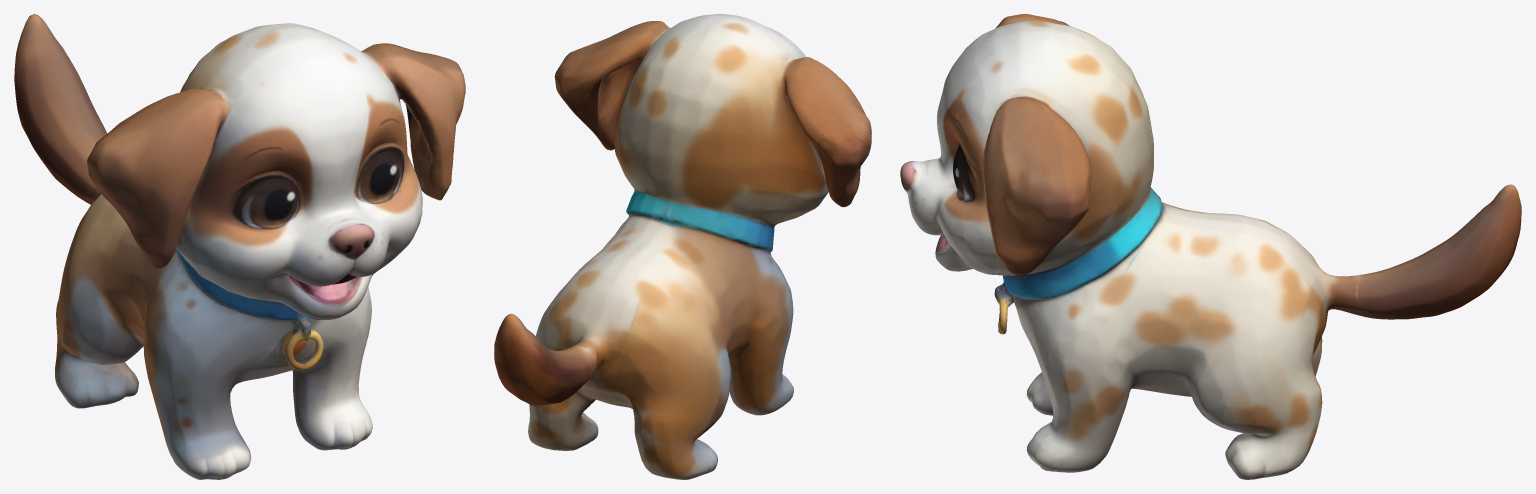
The model's file is pet.fbx.
3 views of the same model, side by side, from view 1: azimuth 30°, elevation 25°; view 2: azimuth 150°, elevation 25°; view 3: azimuth 270°, elevation 25° (orthographic). The views are drawn at different scales.
Visible parts, largest first — view 1: Mesh_0; view 2: Mesh_0; view 3: Mesh_0.
Boxes of the visible parts, x1,y1,x2,y2 form: Mesh_0: (14,14,465,479); Mesh_0: (494,14,871,479); Mesh_0: (900,14,1521,479).
Bounding box in the file's own units: 128 × 145 × 200.
Materials: 1 (1 with a texture image).
